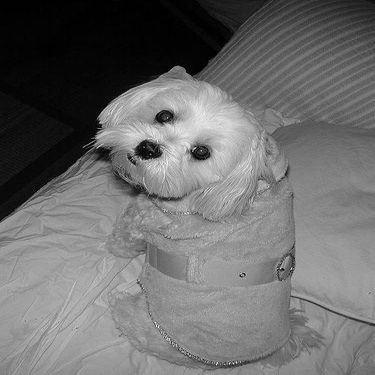dog: (74, 58, 327, 370)
